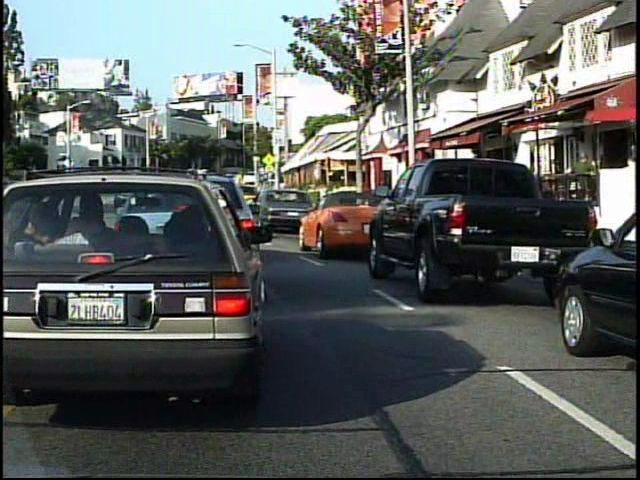person: (567, 147, 600, 224)
